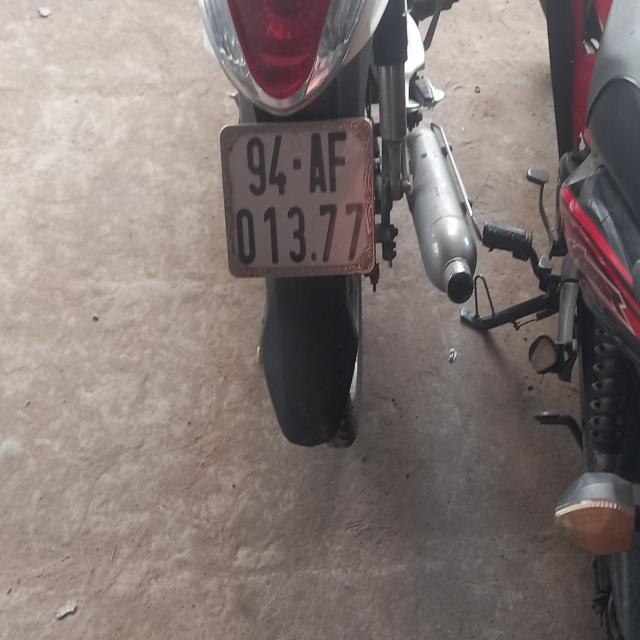0: (236, 209, 256, 265)
1: (263, 206, 279, 264)
3: (287, 206, 306, 263)
4: (268, 133, 286, 194)
7: (345, 201, 364, 262), (320, 203, 338, 262)
9: (246, 137, 267, 196)
A: (309, 133, 326, 195)
F: (328, 132, 347, 194)
